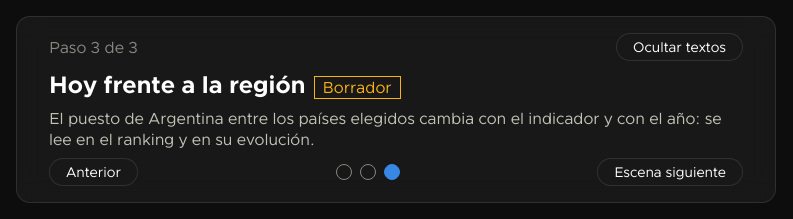
Test: StoryCaption › on the last step Next reads "Next scene" and moves to the next scene at its step 1
The width and height of the screenshot is (793, 219).
What coordinates should you click on to do the following:
click the button "Escena siguiente"
I would click on:
 (670, 172)
Its box is x1=597 y1=158 x2=743 y2=186.
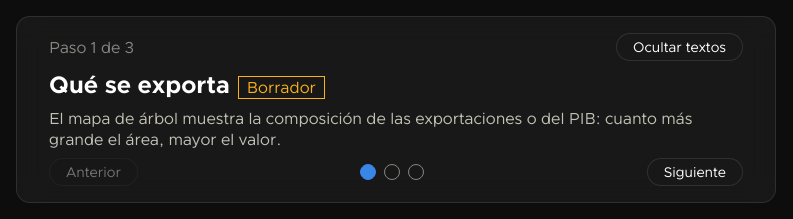
Now the text "Paso 1 de 3" is shown, box x1=49 y1=36 x2=134 y2=58
